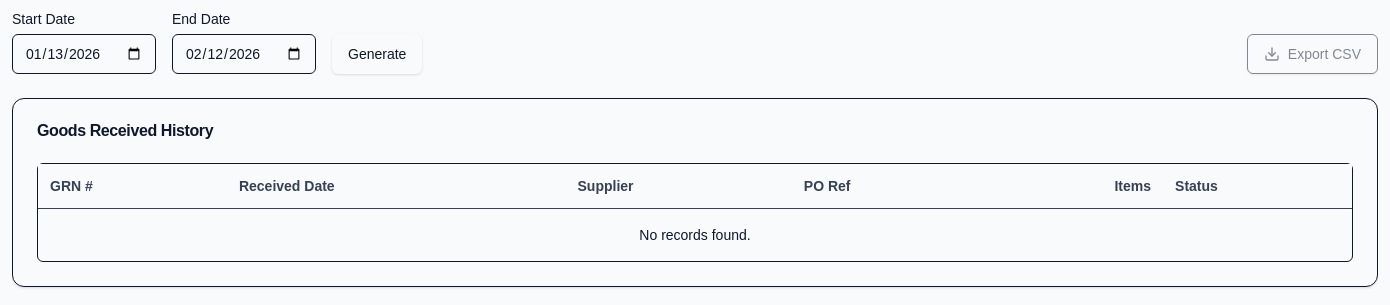
it: PurchaseSummaryPage › fetches and displays purchase data
Click the button "Generate" at (377, 54), box [332, 34, 422, 74]
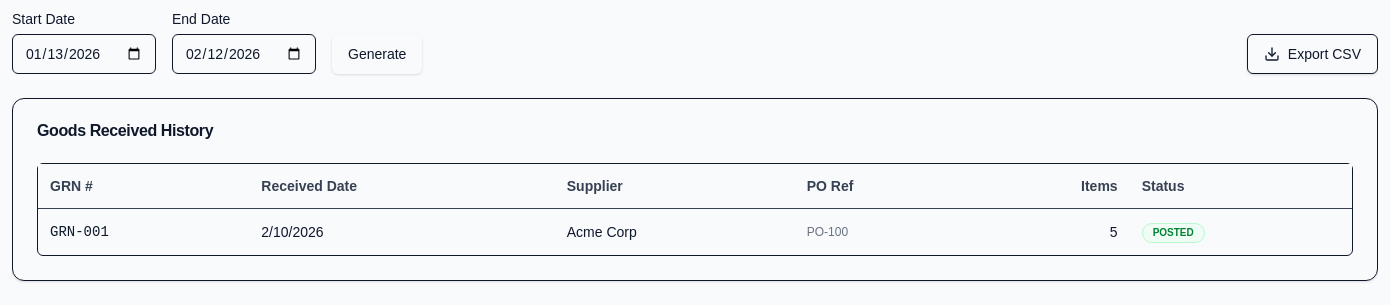
Check: the text "GRN-001" is shown, box [38, 208, 249, 255]
Check: the text "Acme Corp" is shown, box [555, 208, 795, 255]
